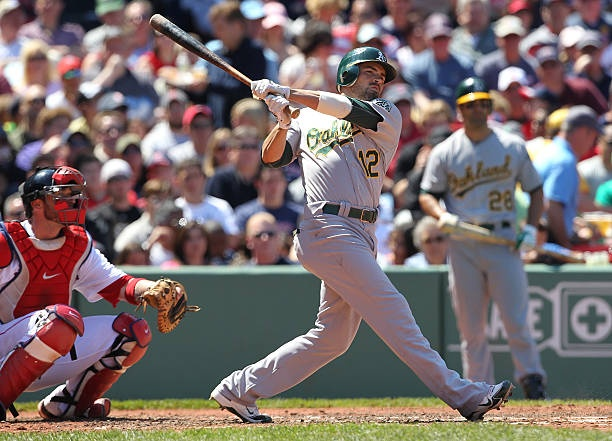bita: (148, 13, 291, 118)
